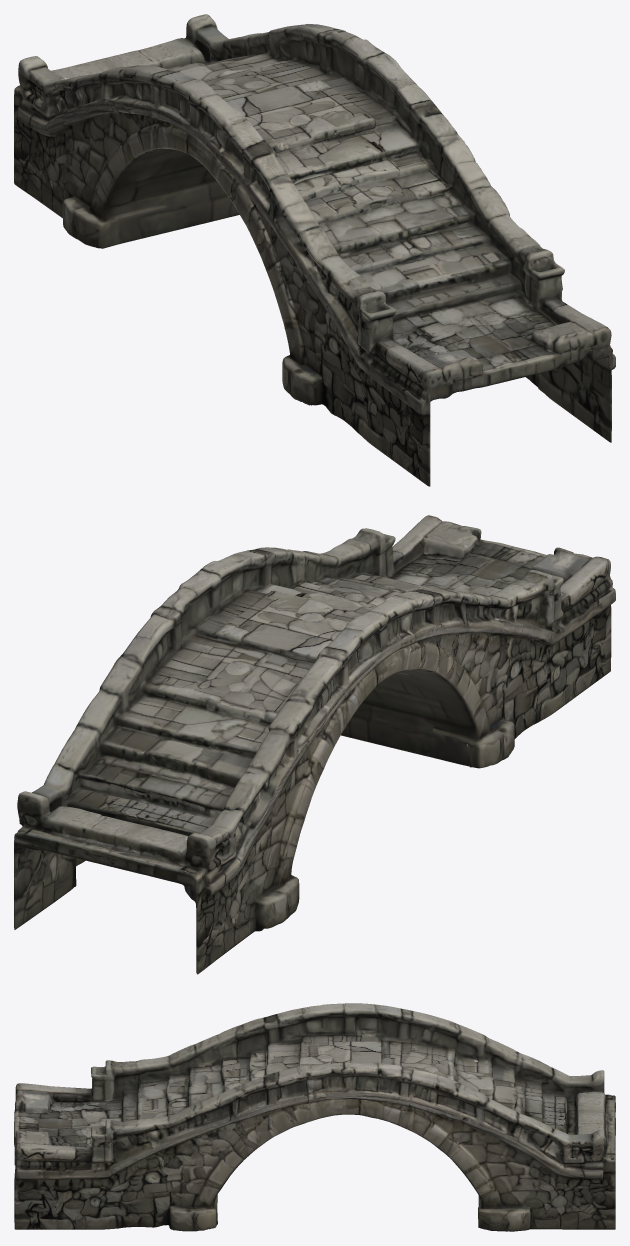
File: city-bridge-stone.glb
The picture shows the model from 3 angles, top to bottom: view 1: azimuth 30°, elevation 25°; view 2: azimuth 150°, elevation 25°; view 3: azimuth 270°, elevation 25°; orthographic projection. The views are drawn at different scales.
Parts seen in each view (by area): view 1: tripo_node_ac1d9259-44cd-427c-af1c-9aea90369397; view 2: tripo_node_ac1d9259-44cd-427c-af1c-9aea90369397; view 3: tripo_node_ac1d9259-44cd-427c-af1c-9aea90369397.
Part boxes in pixels (<box>): tripo_node_ac1d9259-44cd-427c-af1c-9aea90369397: <box>14,14,615,486</box>; tripo_node_ac1d9259-44cd-427c-af1c-9aea90369397: <box>14,515,615,974</box>; tripo_node_ac1d9259-44cd-427c-af1c-9aea90369397: <box>14,1003,615,1231</box>.
Size of the model in its own units: 5.01 by 5 by 16.76.
1 material, 1 textured.
